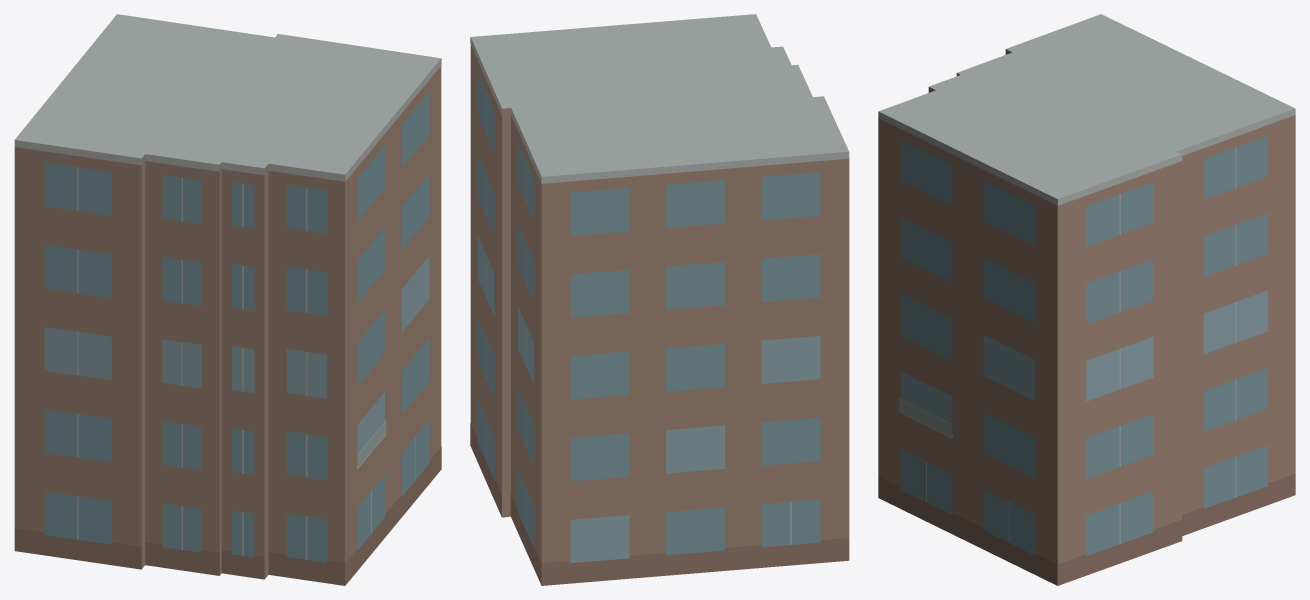
The model's file is survey-upis-32629303.glb.
The picture shows the model from 3 angles, left to right: view 1: azimuth 30°, elevation 25°; view 2: azimuth 150°, elevation 25°; view 3: azimuth 270°, elevation 25°; orthographic projection. The views are drawn at different scales.
Parts seen in each view (by area): view 1: survey-upis-32629303.tmp; view 2: survey-upis-32629303.tmp; view 3: survey-upis-32629303.tmp.
Part boxes in pixels (bbox=[...]): survey-upis-32629303.tmp: bbox=[14, 14, 441, 585]; survey-upis-32629303.tmp: bbox=[470, 14, 849, 585]; survey-upis-32629303.tmp: bbox=[878, 14, 1295, 585].
Size of the model in its own units: 14.86 by 14.45 by 14.14.
